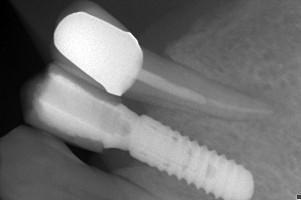Furcation Involvement: (224, 81, 294, 133)
